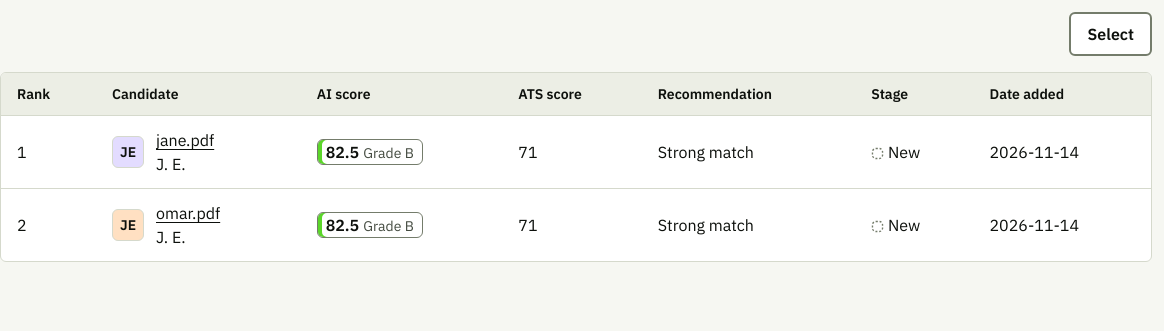
Scenario: changing the stage of several candidates › shows no checkboxes until Select is pressed, and no actions until someone is chosen
This screenshot has width=1164, height=331.
Expected: the element named "Candidates" is shown, x1=0 y1=72 x2=1152 y2=262
Click the button "Select": [1111, 34] box x1=1070 y1=12 x2=1152 y2=56
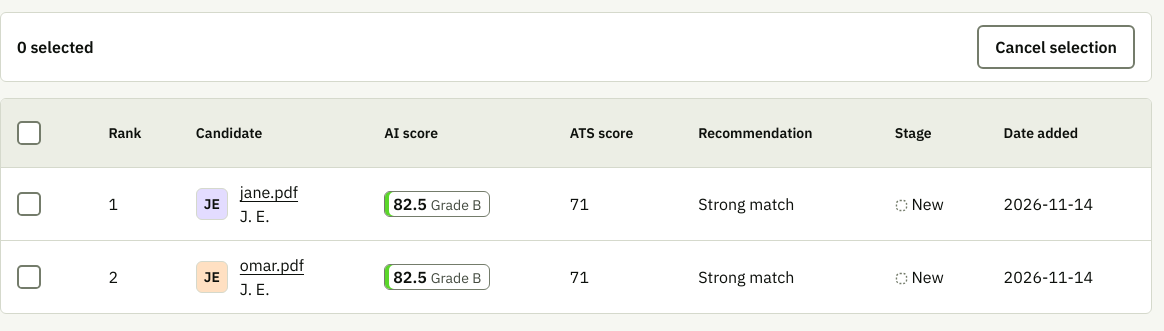
Expected: the 1st checkbox is shown, x1=17 y1=121 x2=41 y2=145
Expected: the text "0 selected" is shown, x1=17 y1=35 x2=94 y2=59
